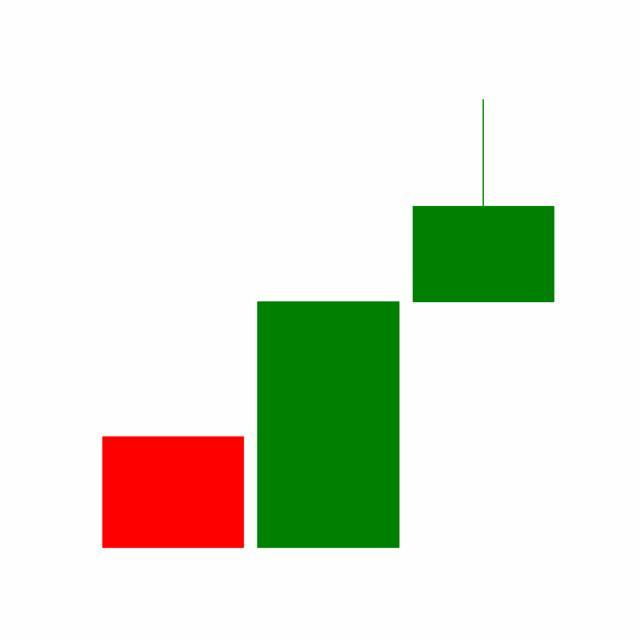Marubozu: (250, 299, 407, 551)
